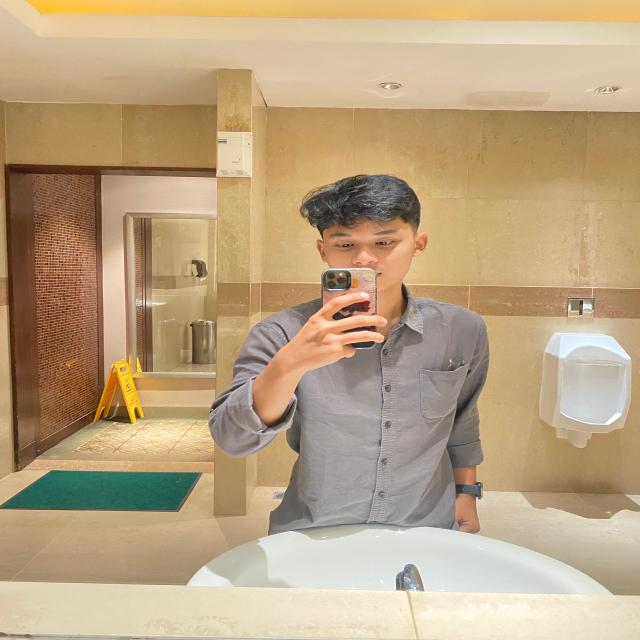nohelmet: (305, 174, 426, 288)
